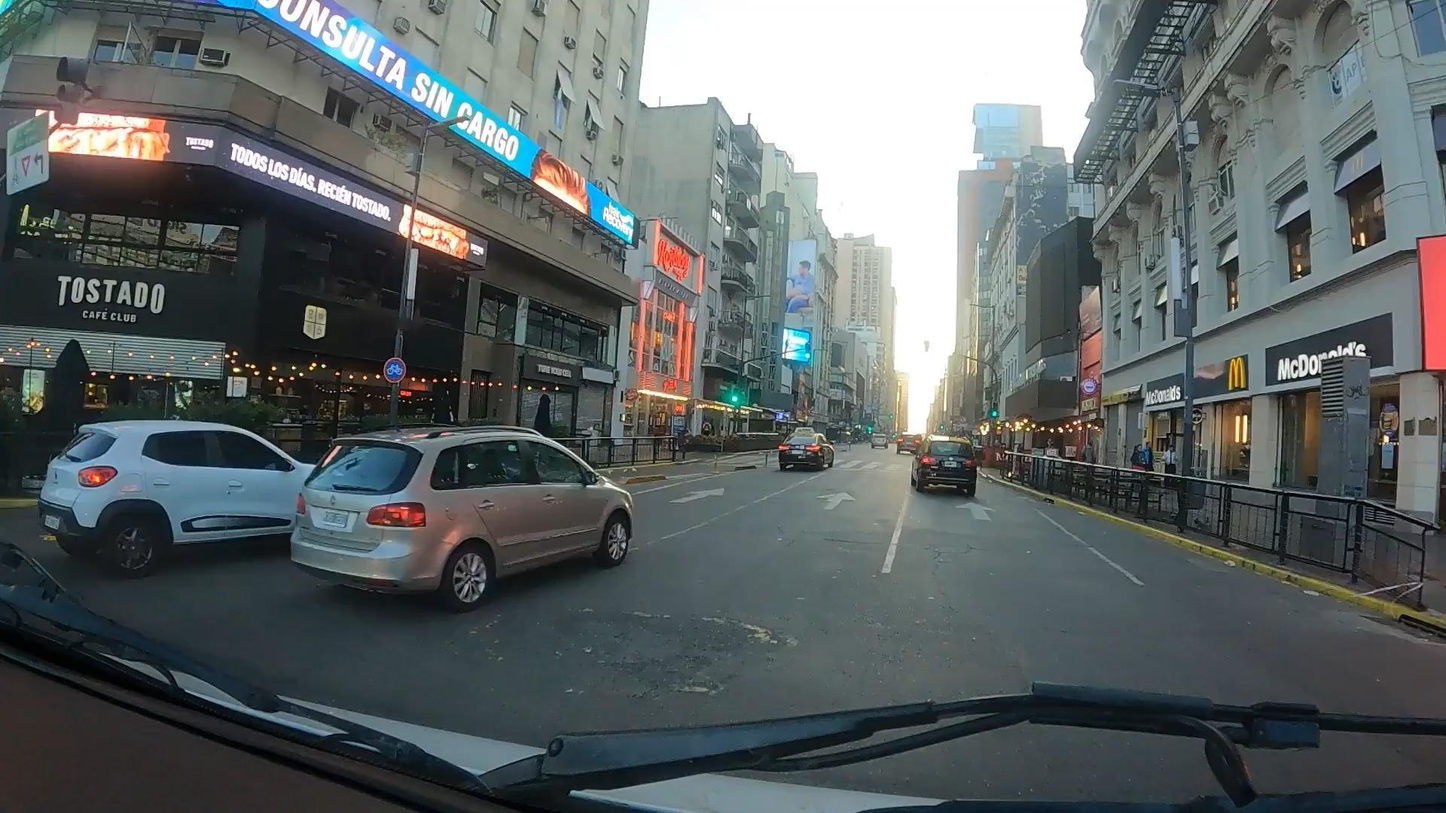dry: (0, 444, 1446, 739)
